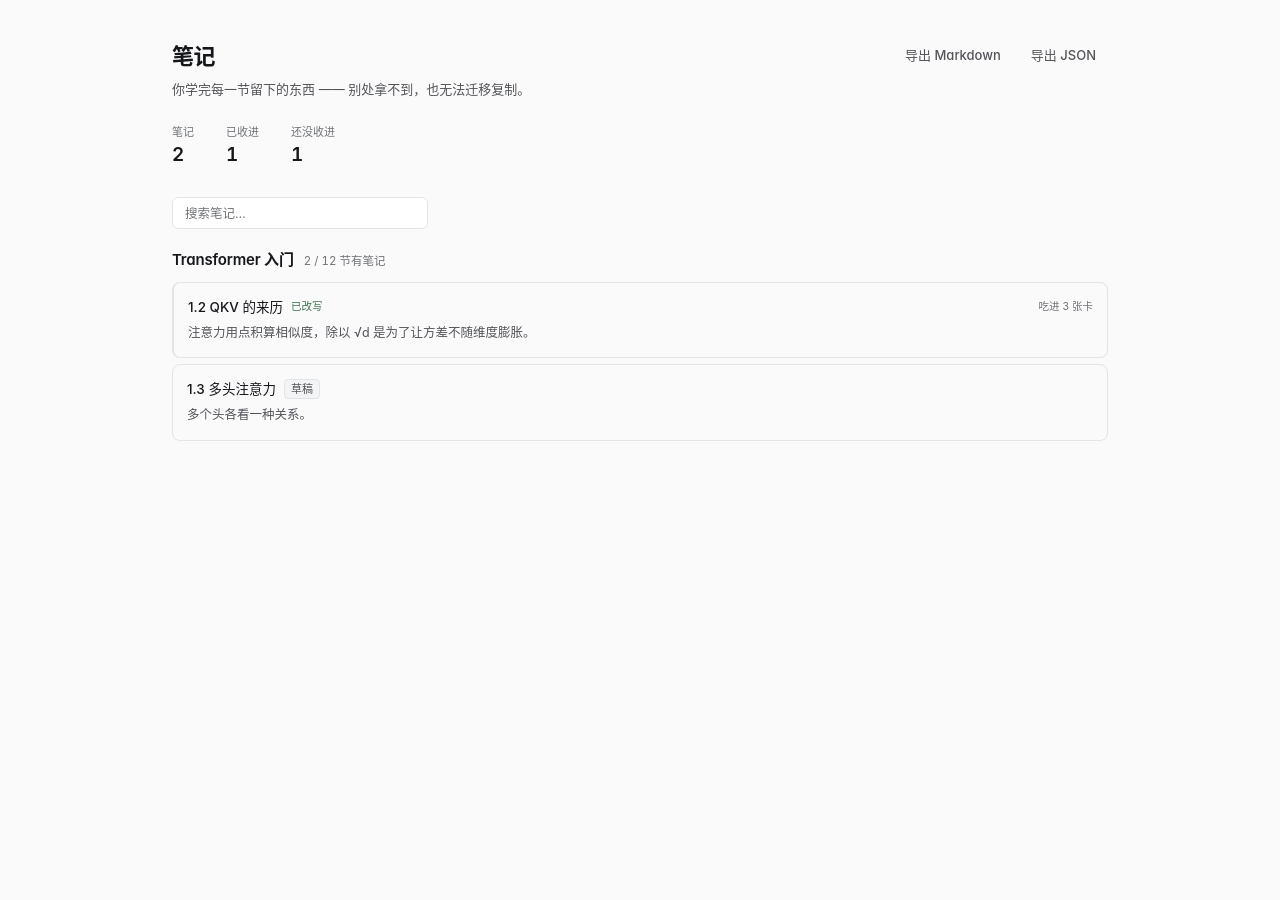
Test: 笔记主界面 › 点开能读到笔记正文，而不是一片空白
Click the text "1.2 QKV 的来历" at x=236, y=307, box [188,297,283,317]
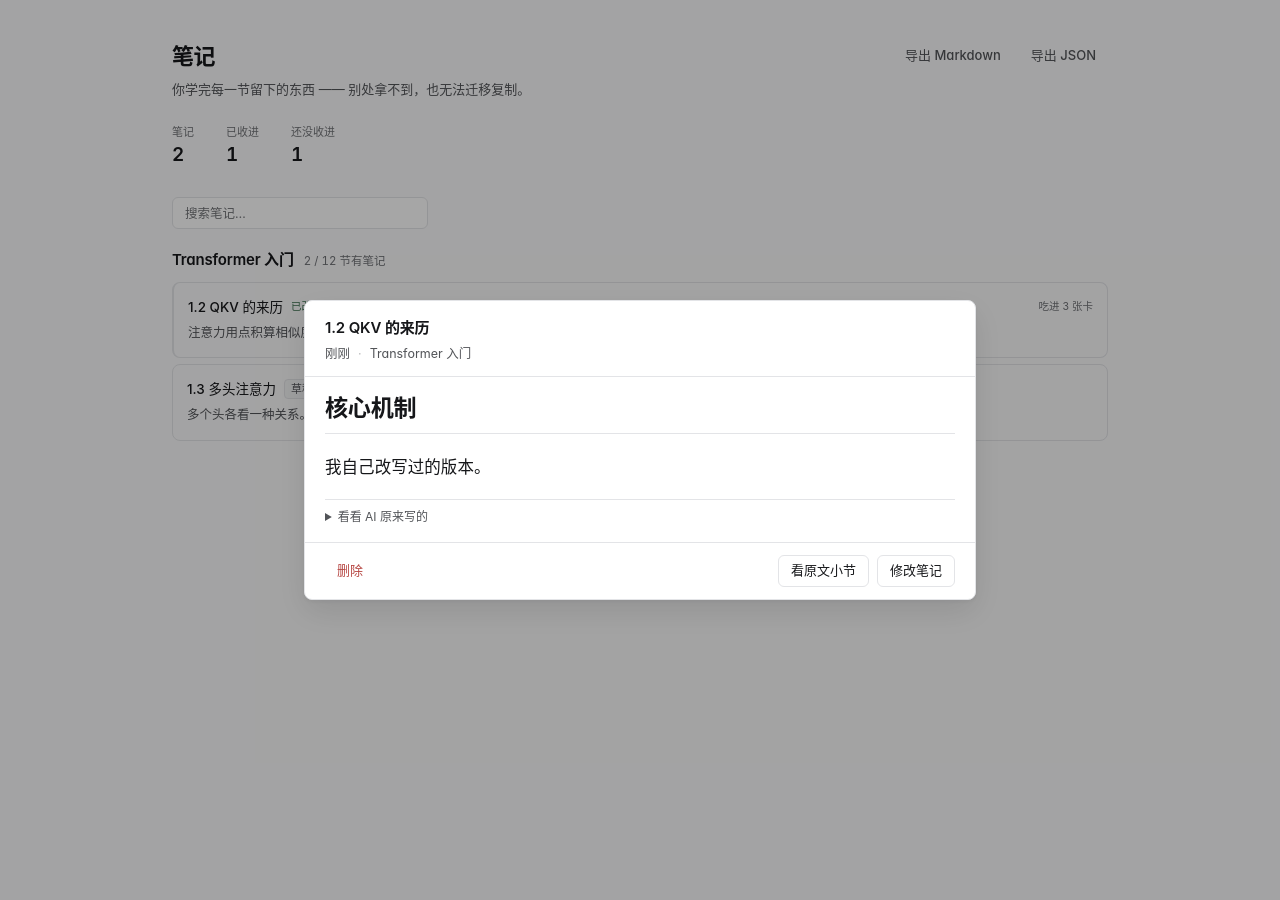
Expected: the text "我自己改写过的版本。" is shown, [325,457,490,477]
Expected: the heading "看看 AI 原来写的" is shown, [338,509,428,524]
